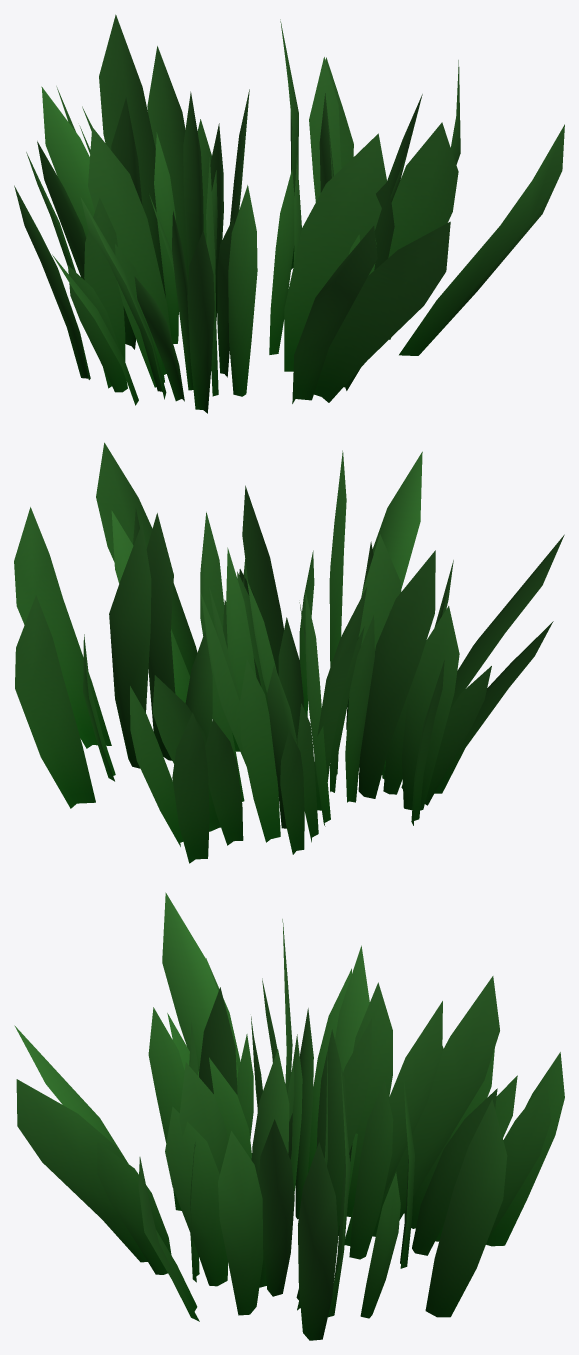
File: Grass_Green_3.fbx
3 views of the same model, one above another, from view 1: azimuth 30°, elevation 25°; view 2: azimuth 150°, elevation 25°; view 3: azimuth 270°, elevation 25° (orthographic).
Parts seen in each view (by area): view 1: Grass_Green_3; view 2: Grass_Green_3; view 3: Grass_Green_3.
Boxes of the visible parts, x1,y1,x2,y2 form: Grass_Green_3: (14,14,564,413); Grass_Green_3: (14,442,564,863); Grass_Green_3: (14,892,564,1340).
Bounding box in the file's own units: 1.13 × 0.6048 × 1.12.
